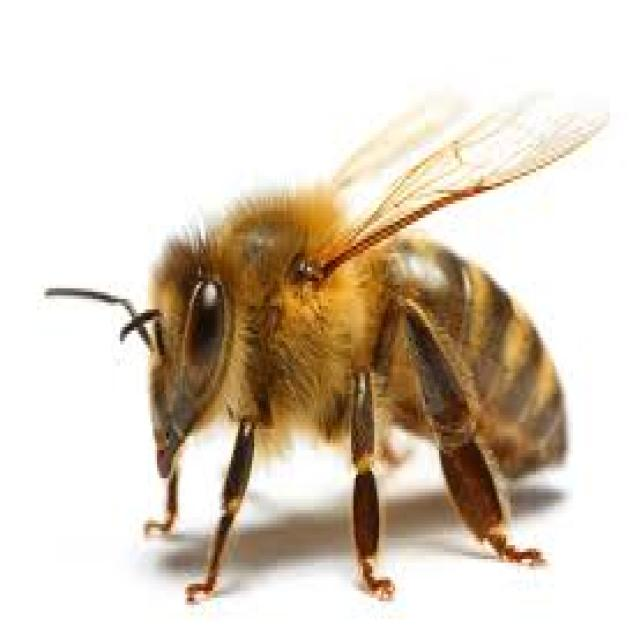Bees: (46, 86, 610, 607)
